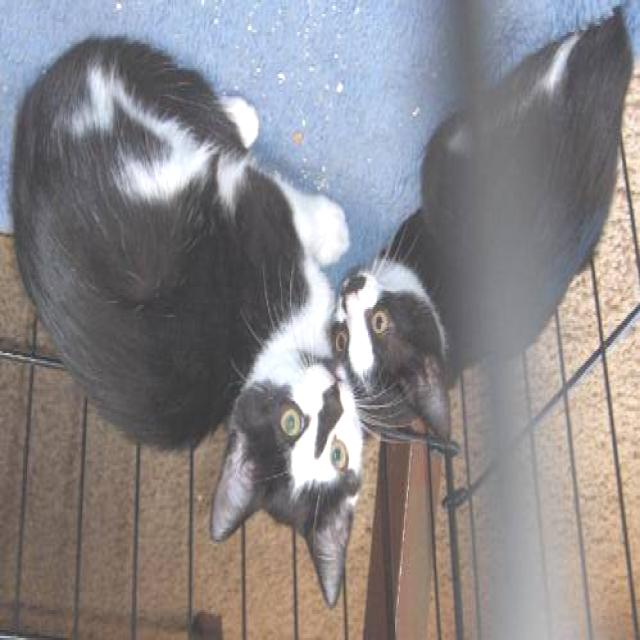Kucing: (9, 8, 370, 636)
